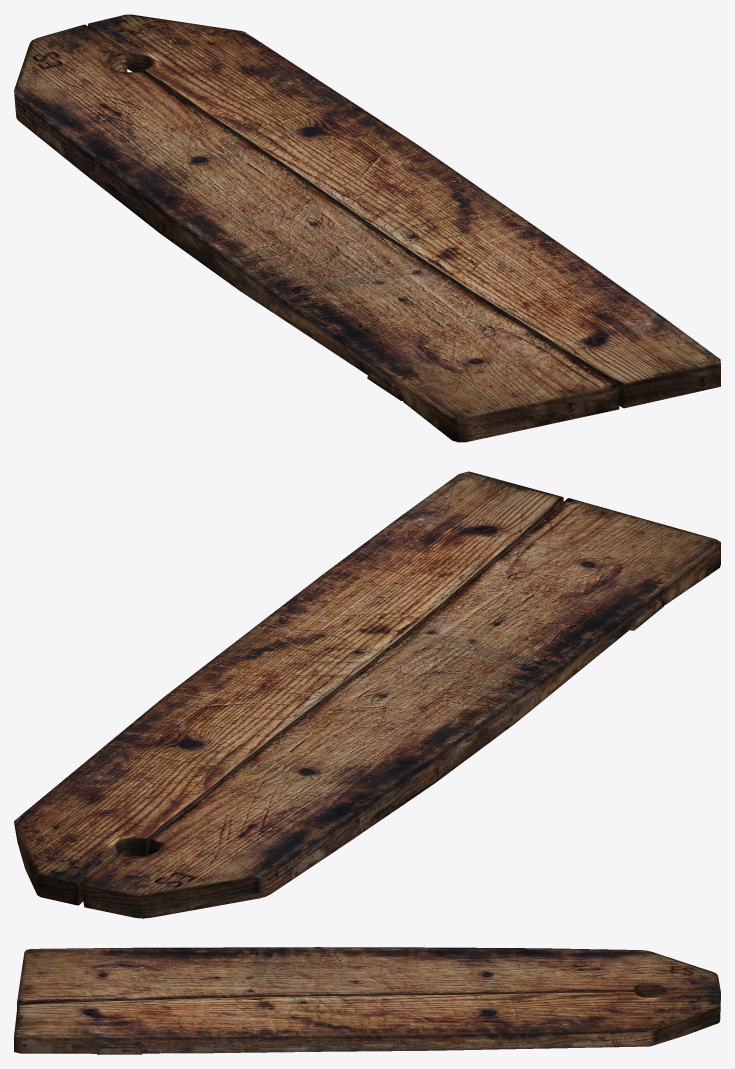
The model's file is wood.glb.
3 renders of one model, top to bottom at view 1: azimuth 30°, elevation 25°; view 2: azimuth 150°, elevation 25°; view 3: azimuth 270°, elevation 25°, orthographic. The views are drawn at different scales.
Parts seen in each view (by area): view 1: Final; view 2: Final; view 3: Final.
Part boxes in pixels (<box>): Final: <box>14,14,720,442</box>; Final: <box>14,471,720,918</box>; Final: <box>14,947,720,1054</box>.
Size of the model in its own units: 0.1708 by 0.0138 by 0.5521.
1 material, 1 textured.
